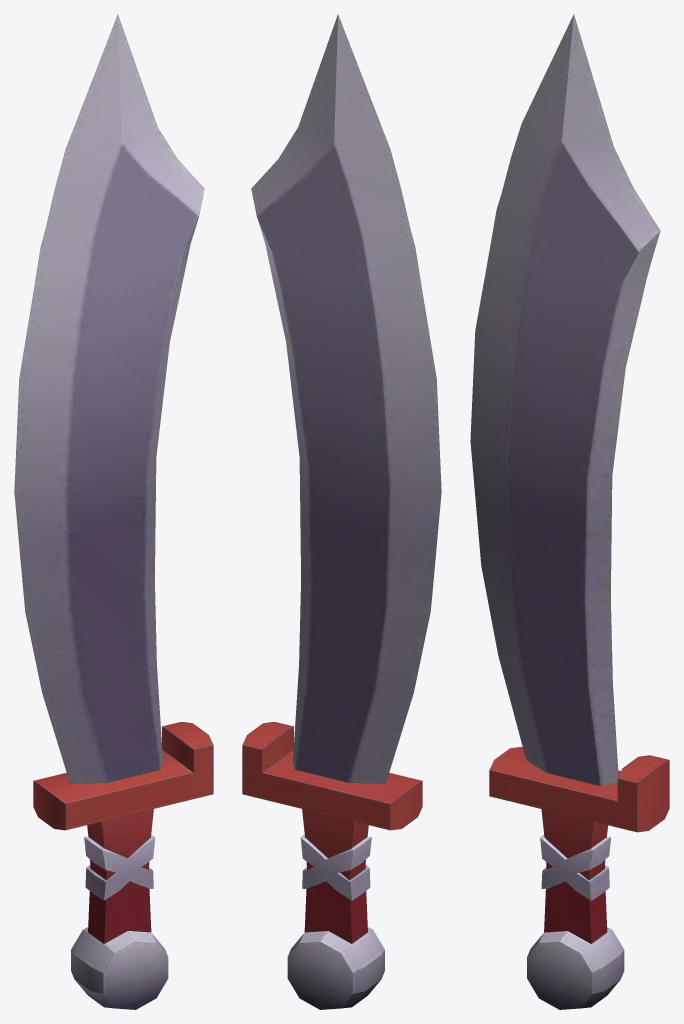
The model's file is espada_10.glb.
3 renders of one model, left to right at view 1: azimuth 30°, elevation 25°; view 2: azimuth 150°, elevation 25°; view 3: azimuth 330°, elevation 25°, orthographic.
Visible parts, largest first — view 1: ASSET_10_OK_10_All_0; view 2: ASSET_10_OK_10_All_0; view 3: ASSET_10_OK_10_All_0.
Boxes of the visible parts, x1,y1,x2,y2 form: ASSET_10_OK_10_All_0: [14, 14, 213, 1009]; ASSET_10_OK_10_All_0: [242, 14, 441, 1009]; ASSET_10_OK_10_All_0: [470, 14, 669, 1009].
Bounding box in the file's own units: 1.36 × 6.78 × 0.4502.
1 material, 1 textured.
